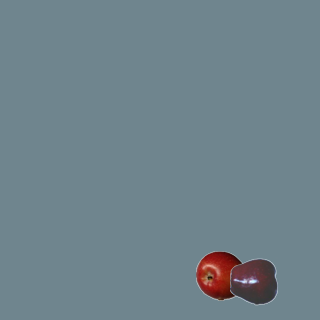Apple Braeburn: (195, 250, 245, 300)
Apple Red Delicious: (229, 256, 279, 306)
